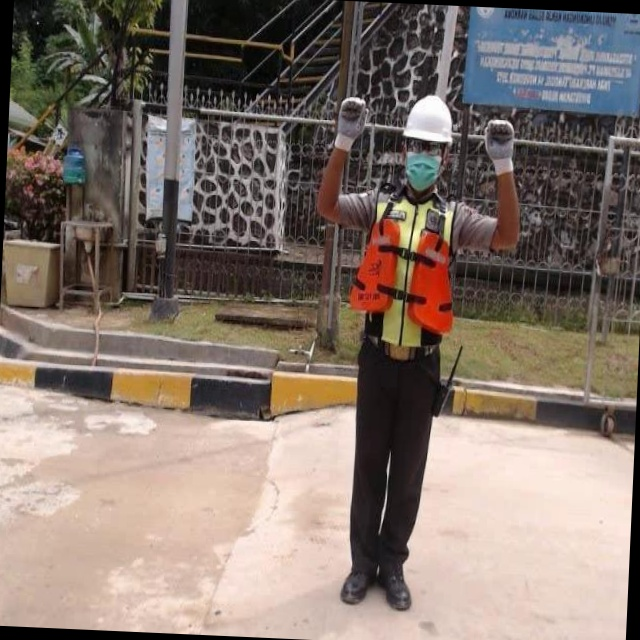boots: (216, 558, 252, 607), (254, 562, 290, 606)
gloves: (122, 100, 176, 166), (269, 79, 321, 147)
helmet: (191, 88, 247, 145)
vest: (187, 187, 291, 343)
